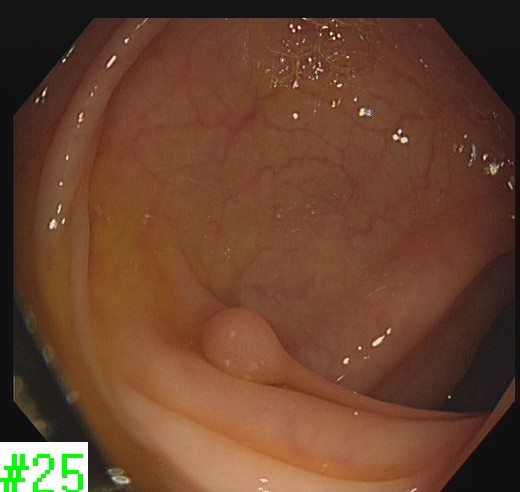adenoma: (197, 302, 291, 384)
